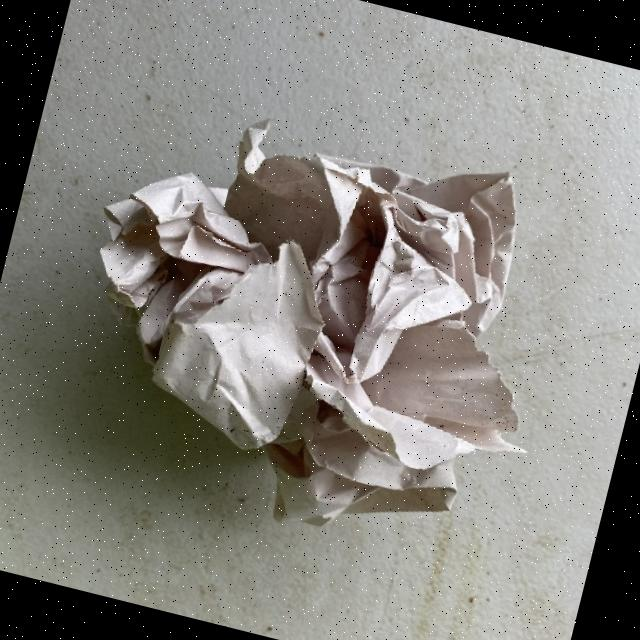paper: (39, 76, 590, 574)
